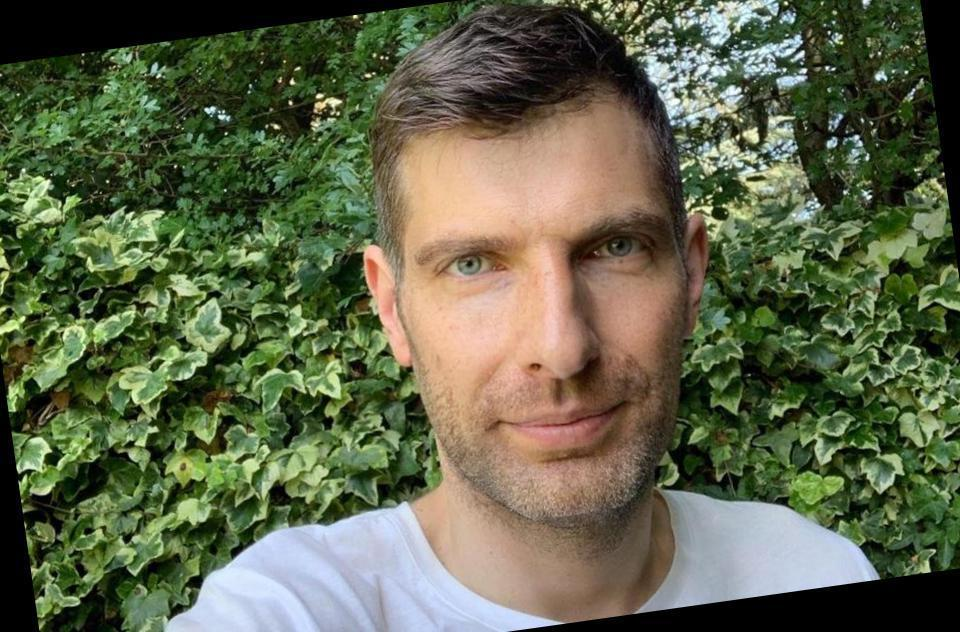Sober: (395, 142, 671, 495)
